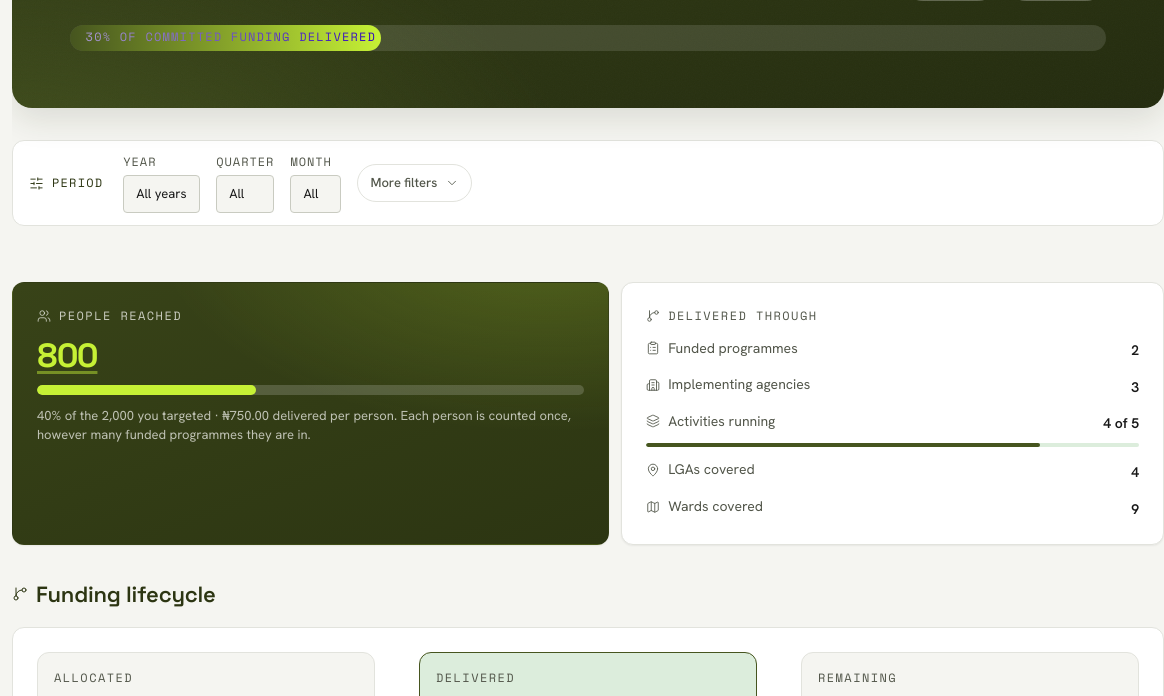
Test: PartnerLayout (funding-partner suite shell + routed pages) › drills from a KPI to the detail page (route navigation)
(page scrolled)
Click the button "Funded programmes 2".
click(733, 348)  # box [646, 338, 1139, 362]
(page scrolled)
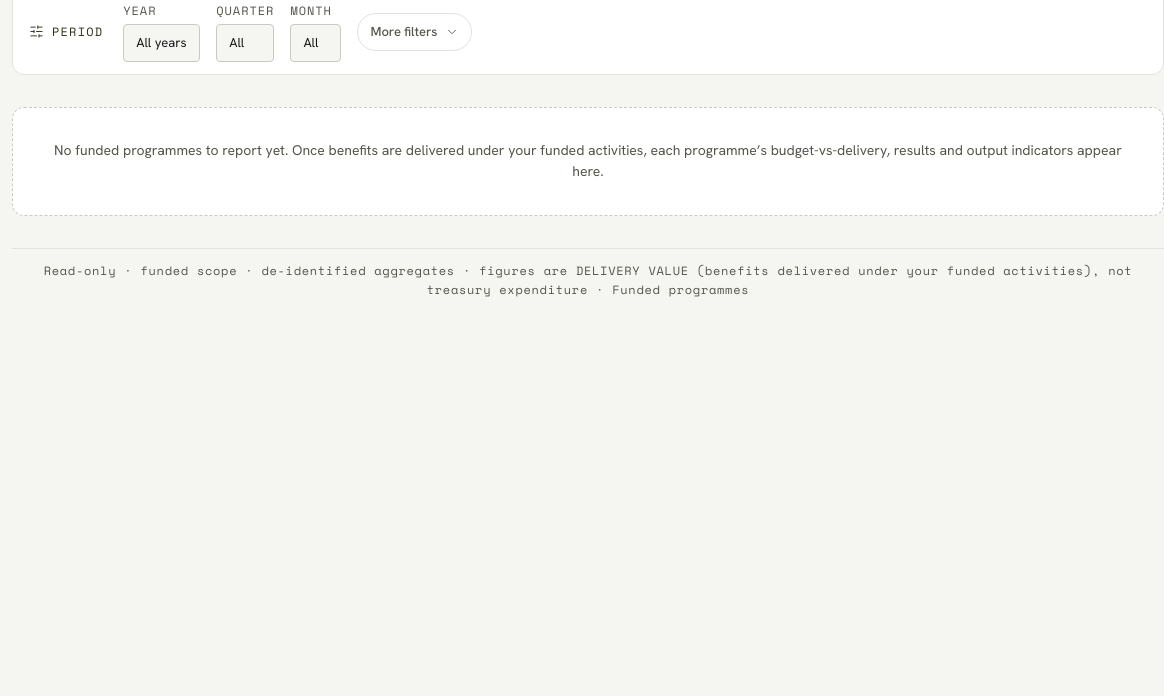
Now the text "No funded programmes to report yet" is shown, box [54, 141, 1122, 180]
